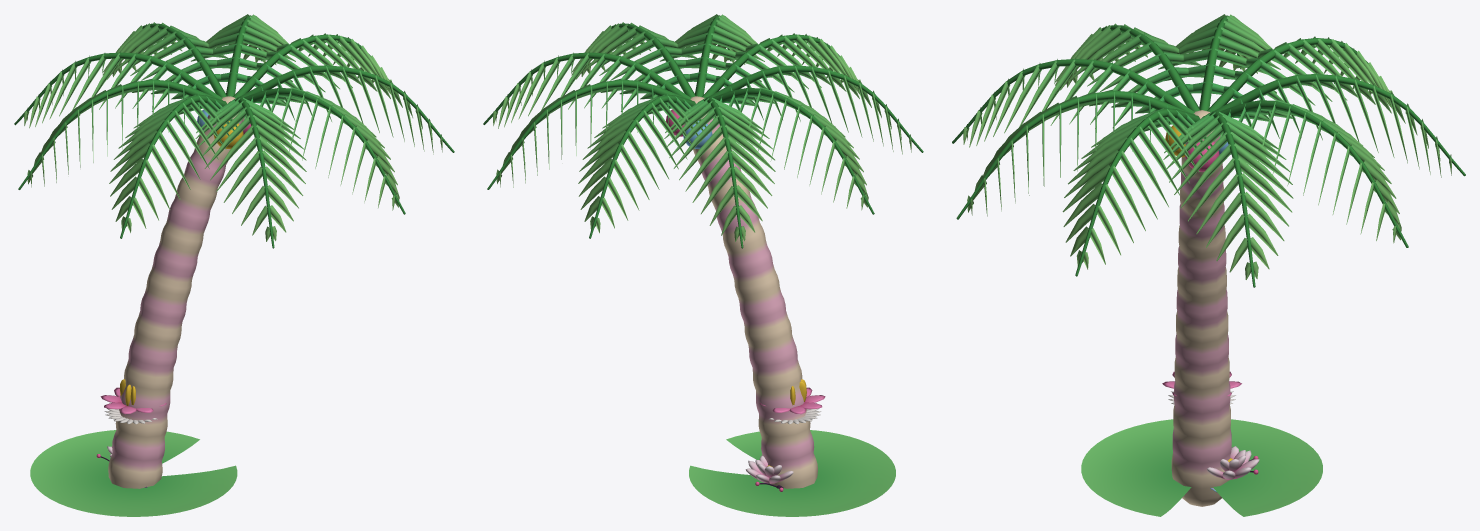
File: nature.glb
3 views of the same model, side by side, from view 1: azimuth 30°, elevation 25°; view 2: azimuth 150°, elevation 25°; view 3: azimuth 270°, elevation 25° (orthographic). The views are drawn at different scales.
Parts seen in each view (by area): view 1: Palm, LilyPad, Cosmos; view 2: Palm, LilyPad; view 3: Palm, LilyPad.
Part boxes in pixels (x1,y1,x2,y2): Palm: (14,14,454,488); LilyPad: (30,430,237,516); Cosmos: (100,387,166,414); Palm: (483,14,923,488); LilyPad: (689,430,895,516); Palm: (952,14,1465,506); LilyPad: (1081,419,1322,516).
Size of the model in its own units: 3.86 by 3.96 by 3.82.
